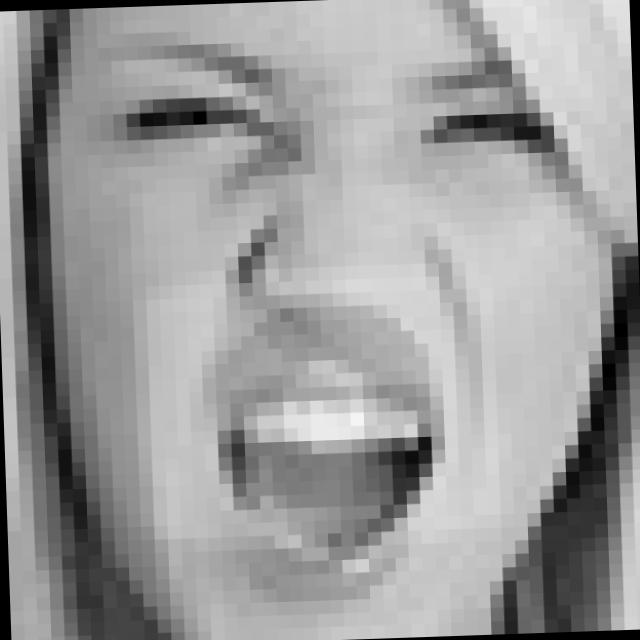angry: (108, 21, 565, 602)
